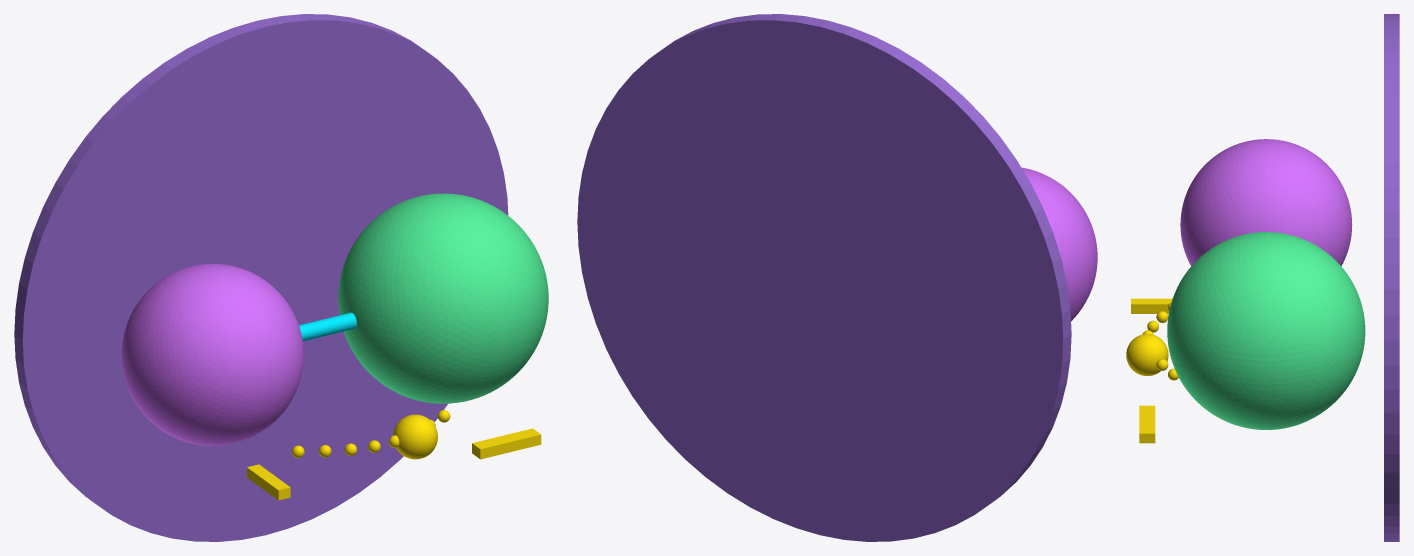
The model's file is modelo.glb.
3 renders of one model, left to right at view 1: azimuth 30°, elevation 25°; view 2: azimuth 150°, elevation 25°; view 3: azimuth 270°, elevation 25°, orthographic. The views are drawn at different scales.
Parts seen in each view (by area): view 1: base, Cl_negativo, Na_positivo, eletron_transferido, sinal_menos, atracao_ionica, sinal_mais; view 2: base, Na_positivo; view 3: Cl_negativo, Na_positivo, base, eletron_transferido, sinal_menos, sinal_mais.
Boxes of the visible parts, x1,y1,x2,y2 form: base: [14, 14, 508, 541]; Cl_negativo: [338, 193, 548, 403]; Na_positivo: [121, 263, 303, 445]; eletron_transferido: [393, 414, 437, 459]; sinal_menos: [472, 428, 541, 459]; atracao_ionica: [299, 312, 356, 341]; sinal_mais: [247, 464, 290, 500]; base: [577, 14, 1071, 541]; Na_positivo: [1022, 167, 1097, 321]; Cl_negativo: [1167, 232, 1365, 429]; Na_positivo: [1180, 139, 1352, 266]; base: [1384, 14, 1399, 541]; eletron_transferido: [1126, 334, 1168, 375]; sinal_menos: [1139, 405, 1155, 443]; sinal_mais: [1131, 298, 1172, 313].
Size of the model in its own units: 0.4 by 0.4 by 0.207.
